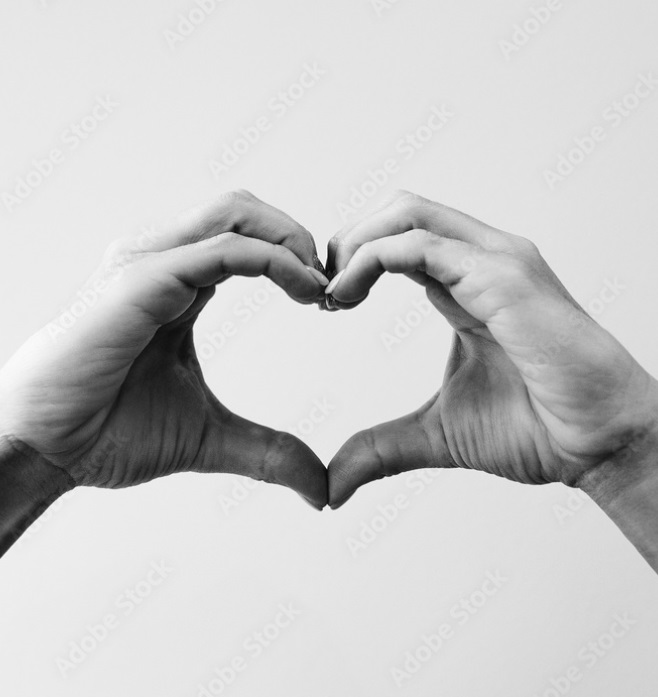heart: (10, 187, 617, 513)
